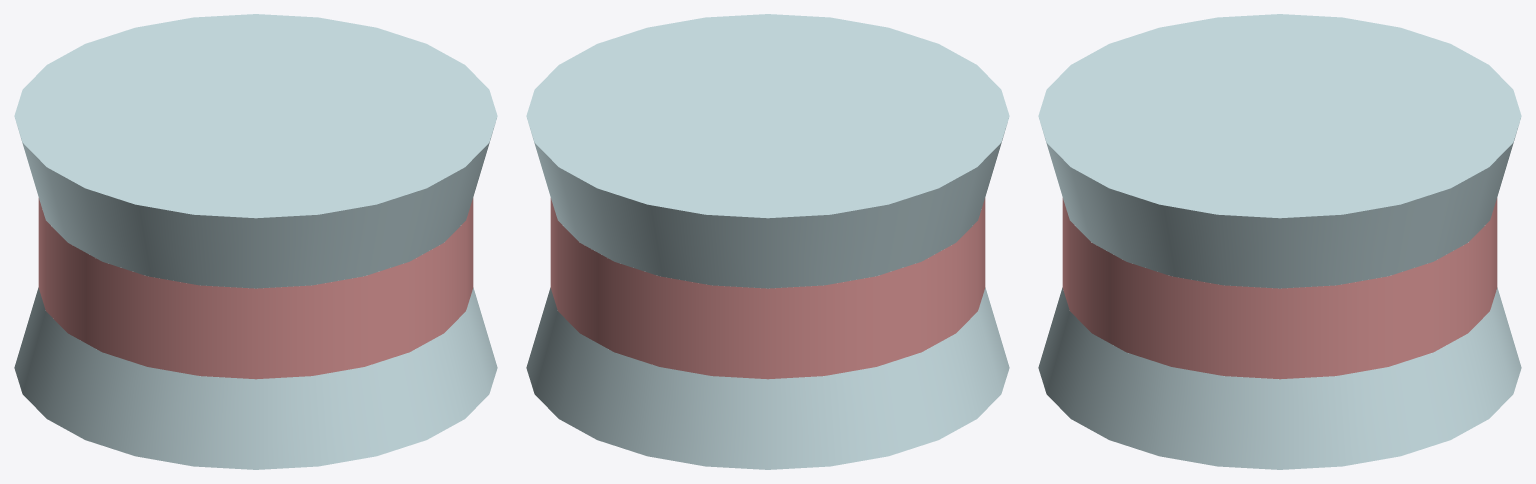
The model's file is towerRound_middleA.glb.
3 renders of one model, left to right at view 1: azimuth 30°, elevation 25°; view 2: azimuth 150°, elevation 25°; view 3: azimuth 270°, elevation 25°, orthographic.
Visible parts, largest first — view 1: towerRound_middleA; view 2: towerRound_middleA; view 3: towerRound_middleA.
Part boxes in pixels (left/top/right/bottom): towerRound_middleA: left=14, top=14, right=497, bottom=469; towerRound_middleA: left=526, top=14, right=1009, bottom=469; towerRound_middleA: left=1038, top=14, right=1521, bottom=469.
Size of the model in its own units: 0.87 by 0.5 by 0.87.
